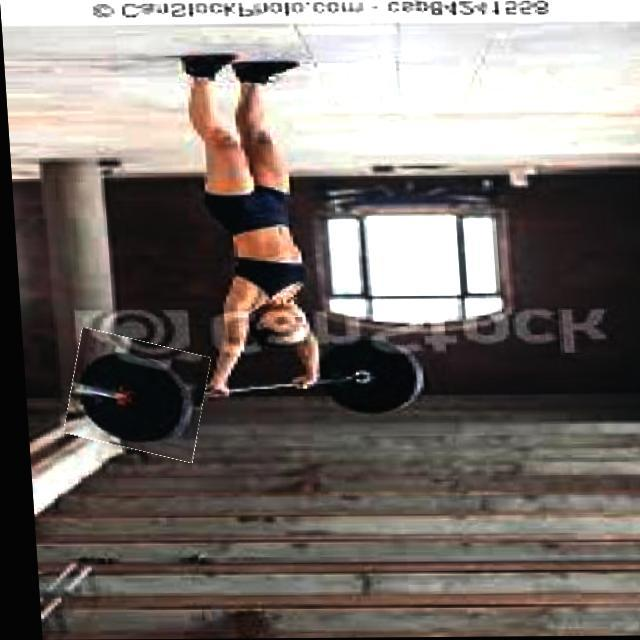barbell: (59, 335, 207, 458)
